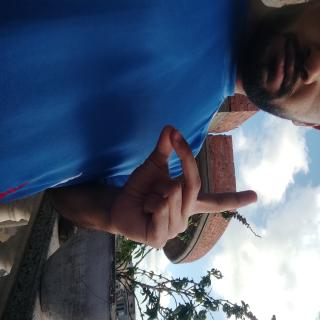TAA: (85, 72, 189, 294)
